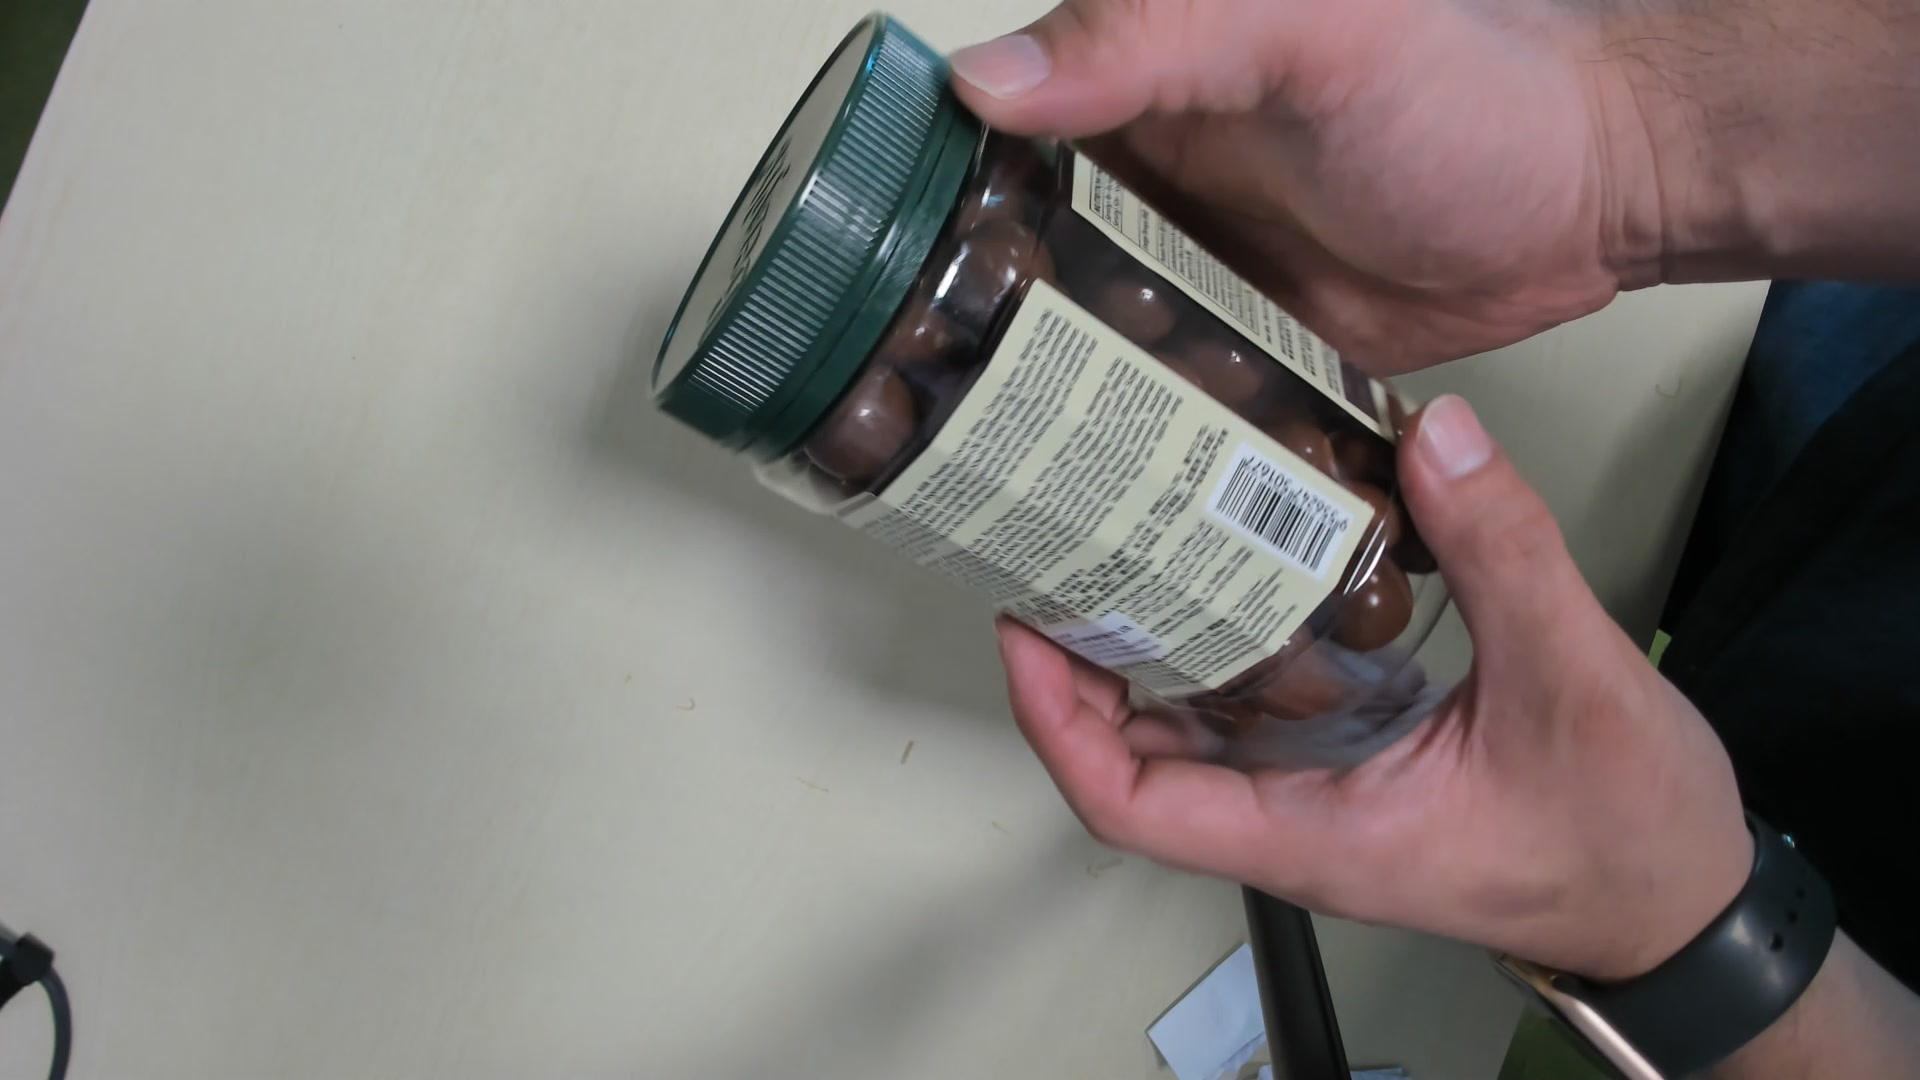SweetsChocolatesOthers_400-499g_Halal_Nonhealthy: (657, 18, 1455, 738)
